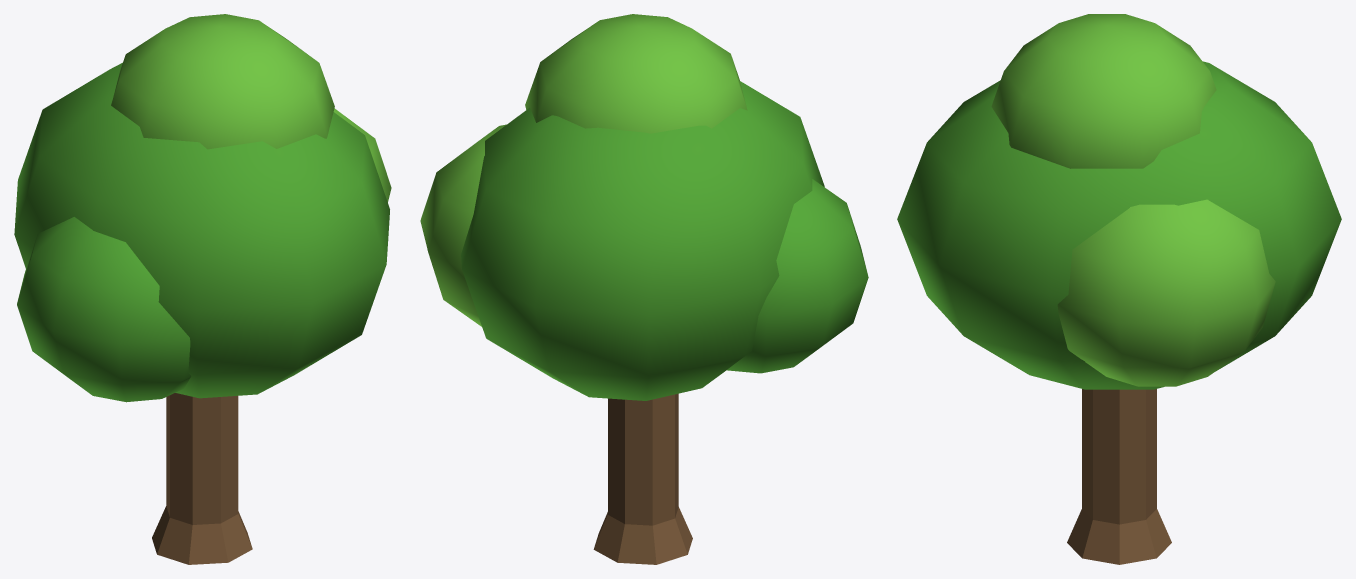
Rendered from tree-b.glb.
The picture shows the model from 3 angles, left to right: view 1: azimuth 30°, elevation 25°; view 2: azimuth 150°, elevation 25°; view 3: azimuth 270°, elevation 25°; orthographic projection. The views are drawn at different scales.
Parts seen in each view (by area): view 1: tree-b; view 2: tree-b; view 3: tree-b.
Boxes of the visible parts, box(x1,y1,x2,y2) form: tree-b: box(14, 14, 391, 564); tree-b: box(420, 14, 868, 564); tree-b: box(897, 14, 1341, 564).
Size of the model in its own units: 3.5 by 4.6 by 3.55.
